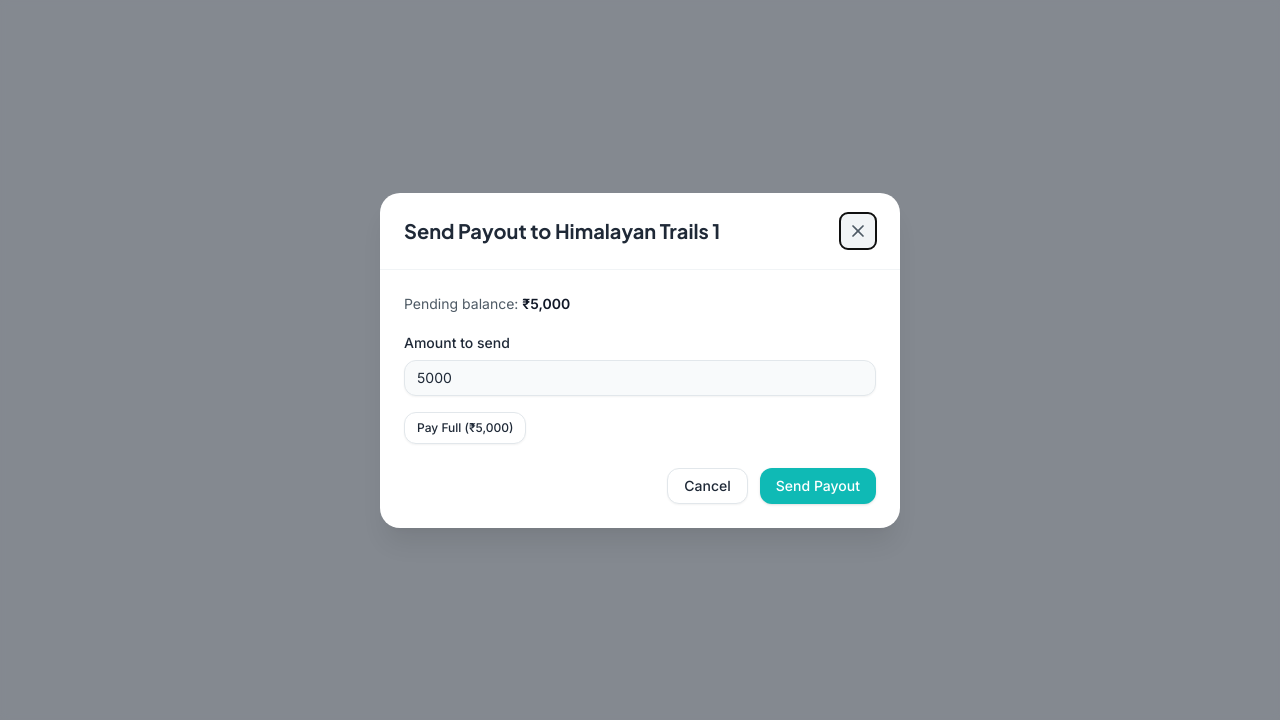
it: SendPayoutModal › keeps the modal open when the release result status is "ledger_mismatch"
Click the button "Send Payout" at x=818, y=486, box [760,468,876,504]
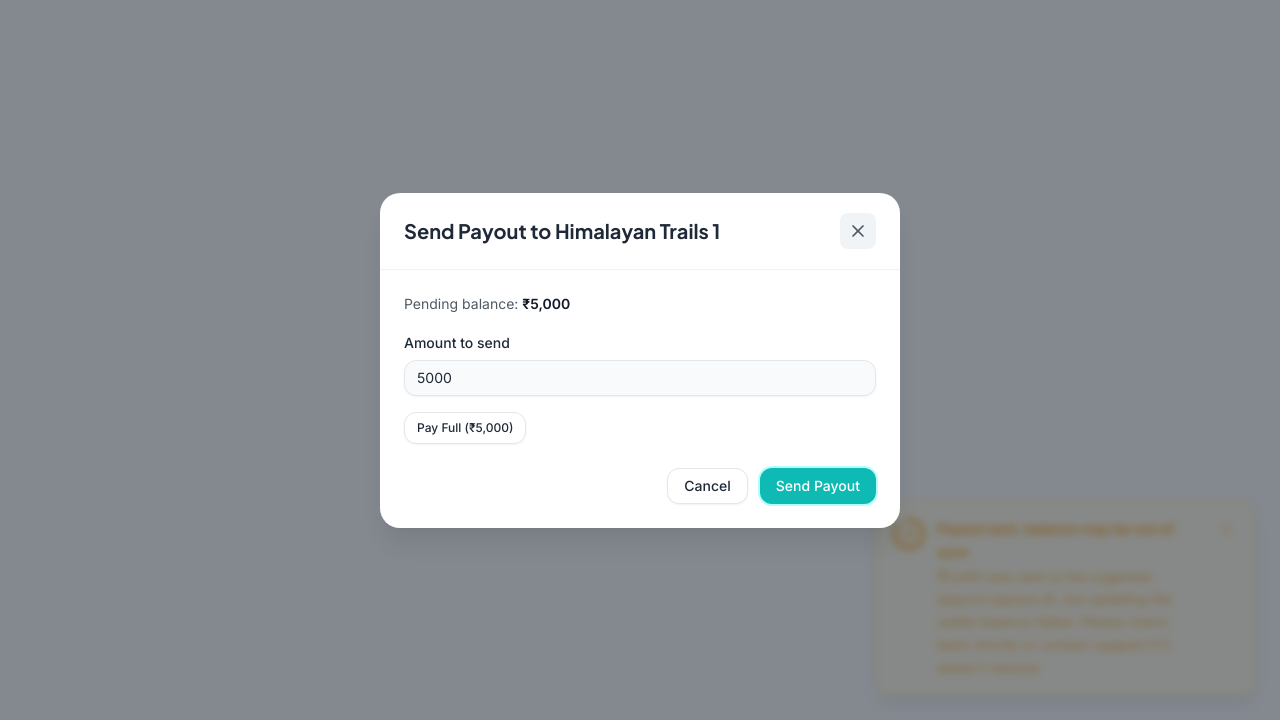
Expected: the text "Payout sent, balance may be out of sync" is shown, [937,518,1203,563]
